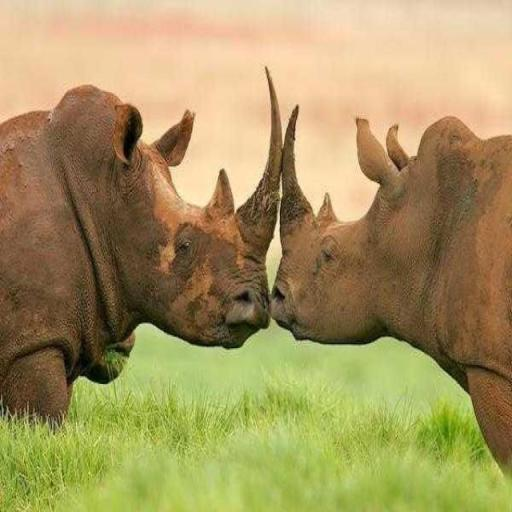Rhino: (0, 65, 282, 432), (269, 78, 511, 481)
